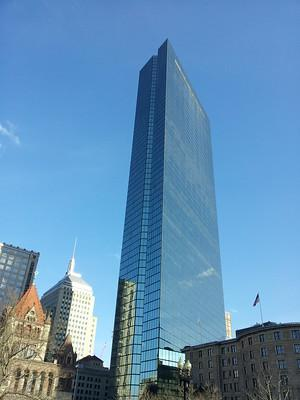building: (107, 34, 230, 400)
